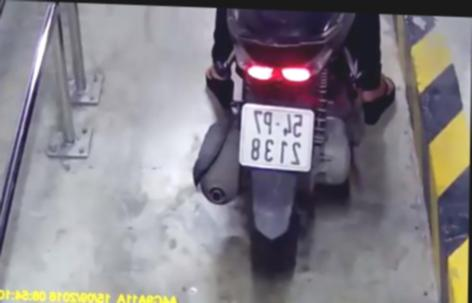License_Plate: (236, 101, 327, 176)
